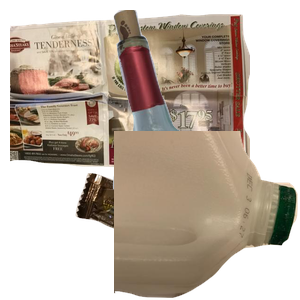glass: (89, 10, 300, 190)
paper: (10, 11, 250, 180)
plastic: (114, 131, 300, 300)
trash: (73, 171, 242, 300)
